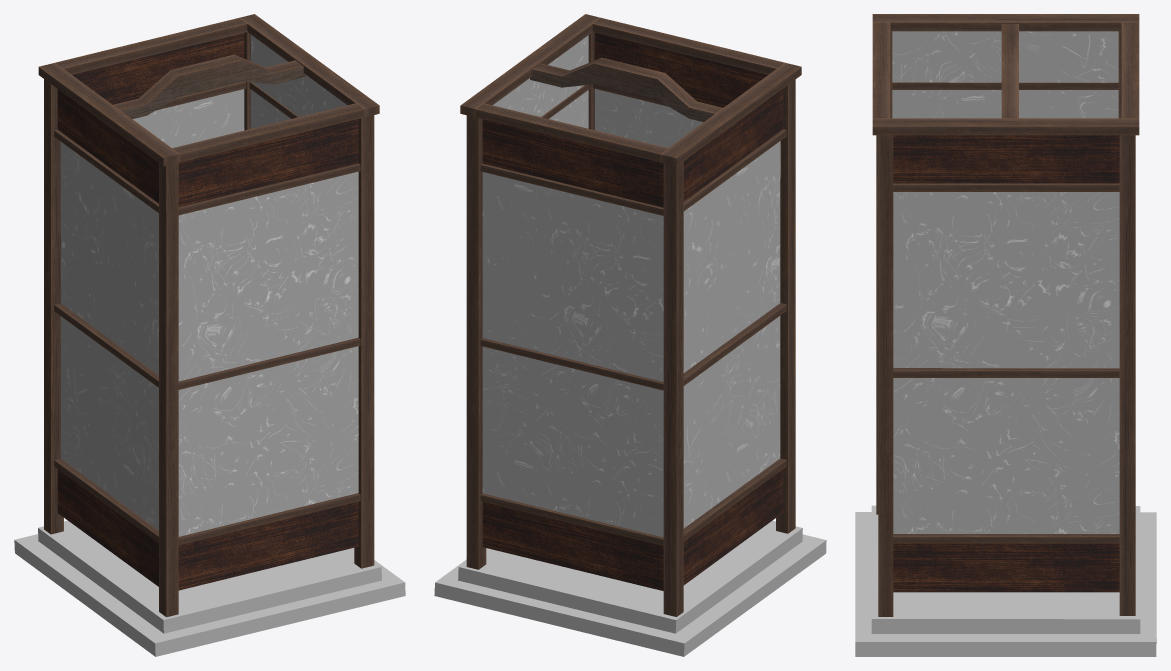
The model's file is jov_andon01.fbx.
3 renders of one model, left to right at view 1: azimuth 30°, elevation 25°; view 2: azimuth 150°, elevation 25°; view 3: azimuth 270°, elevation 25°, orthographic. The views are drawn at different scales.
Parts seen in each view (by area): view 1: jov_andon01; view 2: jov_andon01; view 3: jov_andon01.
Boxes of the visible parts, x1,y1,x2,y2 form: jov_andon01: (14, 14, 405, 656); jov_andon01: (434, 14, 826, 656); jov_andon01: (855, 14, 1156, 656).
Bounding box in the file's own units: 36.28 × 70.29 × 35.45.
